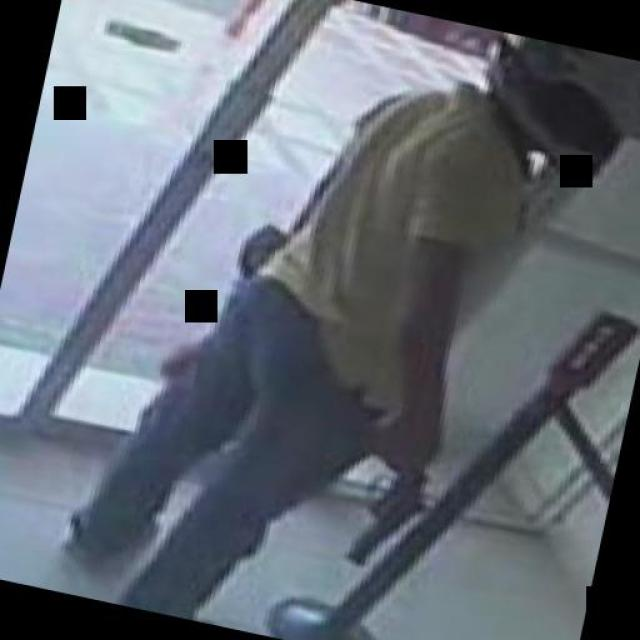gun: (330, 426, 448, 579)
